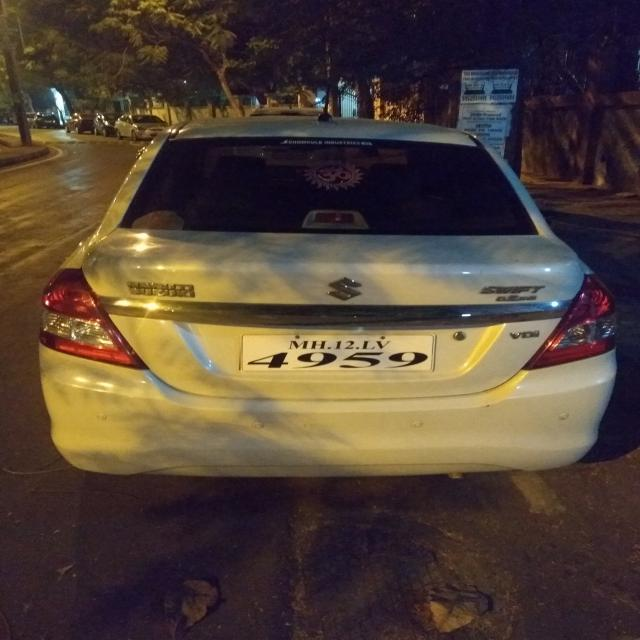Number-Plate: (250, 331, 437, 373)
